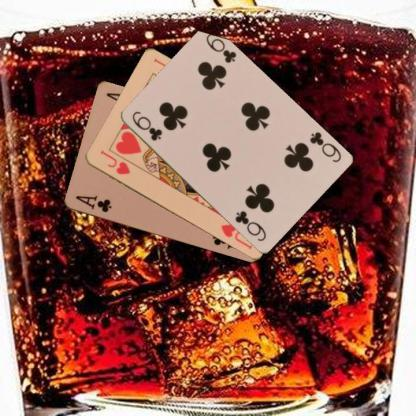6c: (306, 129, 342, 164), (129, 108, 163, 142)
Ac: (72, 193, 112, 214)
Jh: (97, 148, 131, 176)
